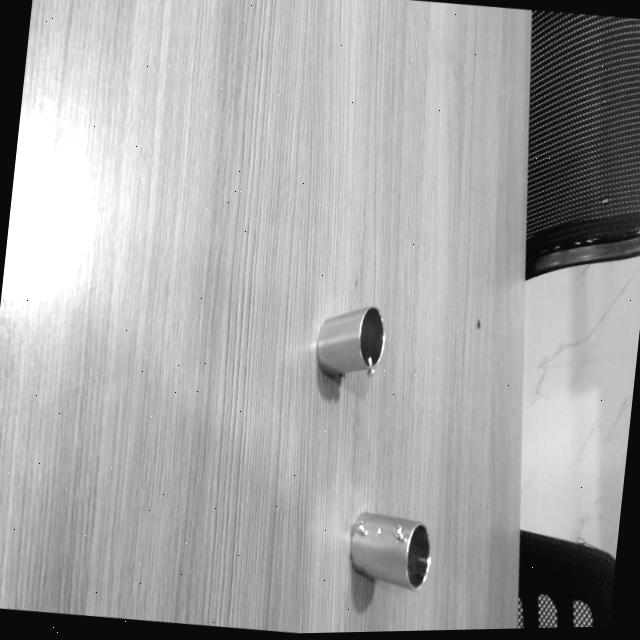Co_Lon: (311, 304, 389, 380)
Co_Nho: (343, 508, 437, 591)
